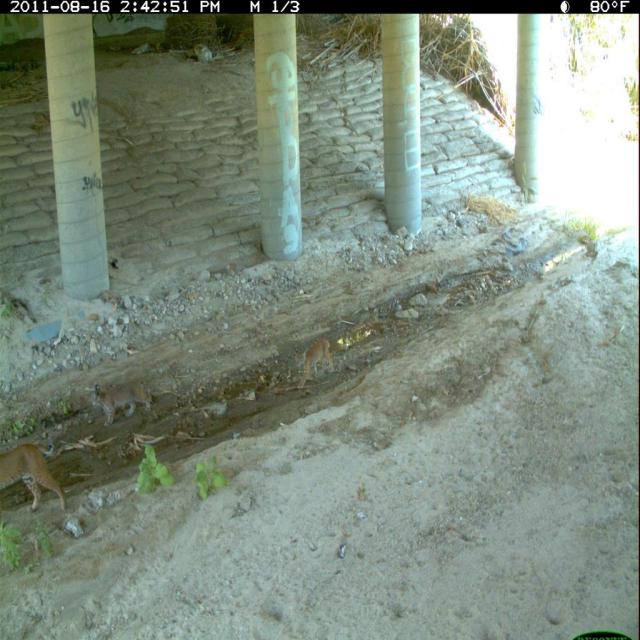bobcat: (1, 437, 72, 521), (89, 379, 155, 431), (292, 332, 337, 394)
